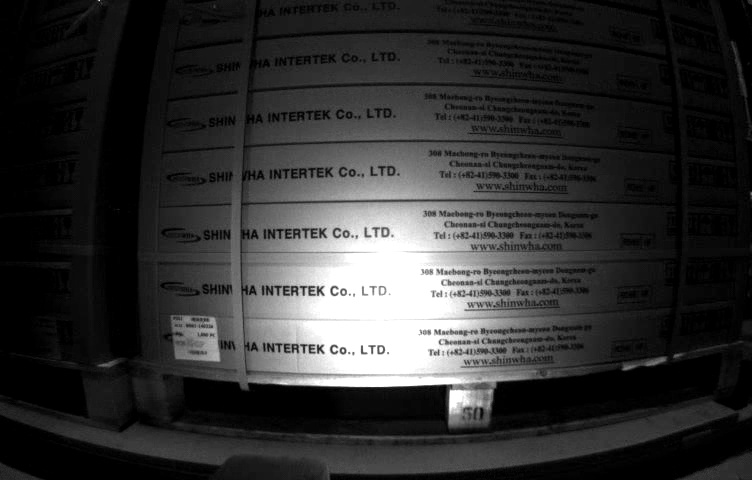True Barcode: (168, 313, 221, 364)
